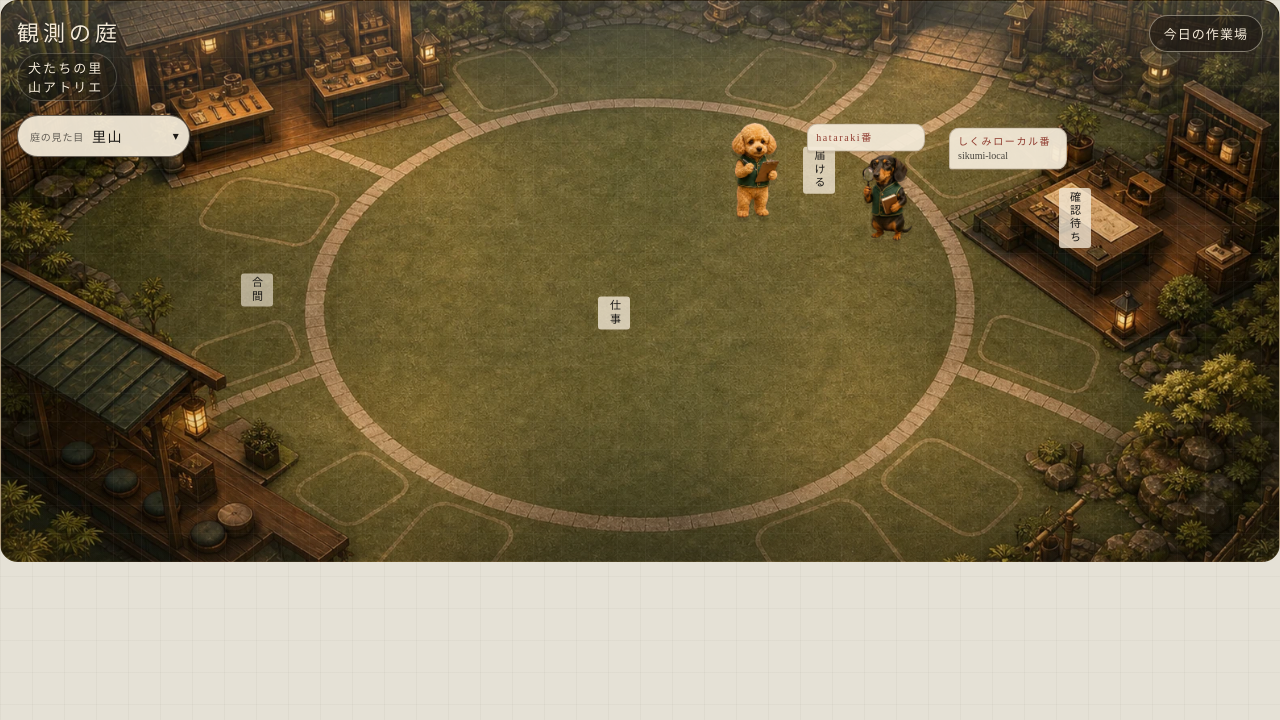
Test: ObserverGarden › shows spoken work titles on inspect for しくみローカル and hataraki
Expected: the text "これまでの仕事" is not shown
Click the button without text next to "しくみローカル番" at (891, 188), box [831,128,951,248]
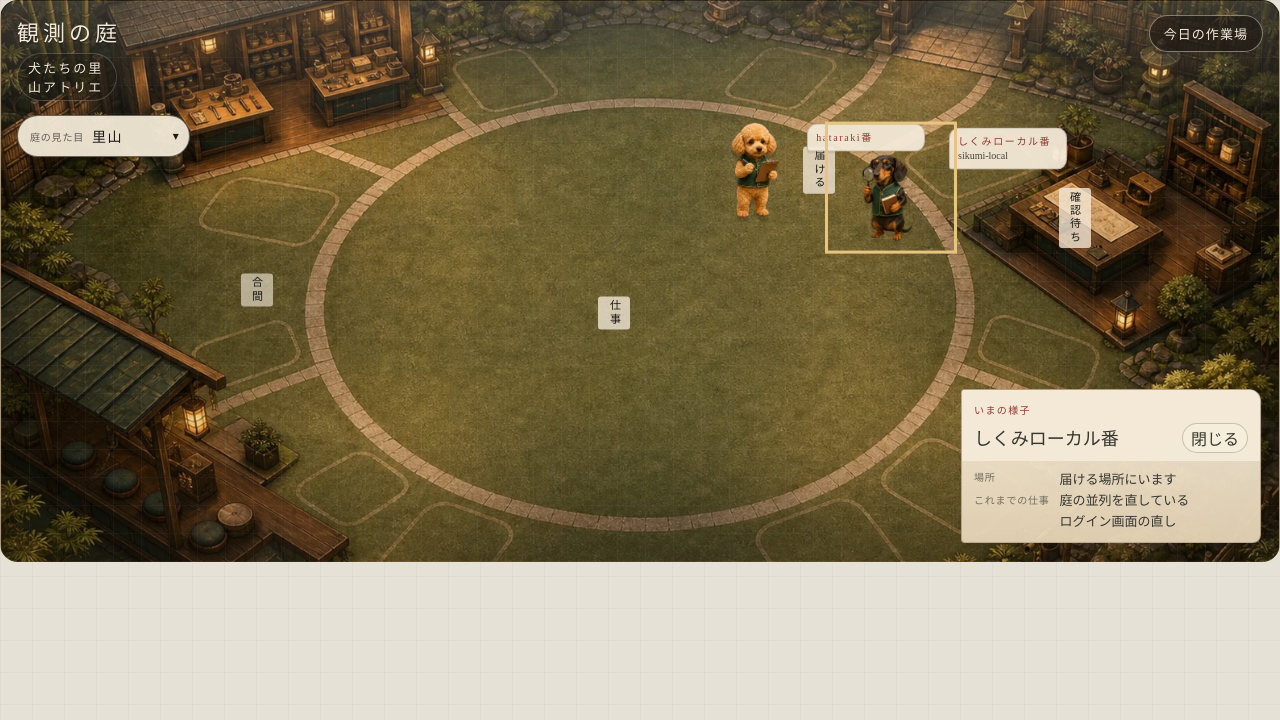
Now the element with test id "garden-inspect" shows "これまでの仕事", box [974,495,1050,506]
Now the element with test id "garden-inspect" shows "庭の並列を直している", box [1060,493,1189,508]
Now the element with test id "garden-inspect" shows "ログイン画面の直し", box [1060,514,1177,529]
Click the button "閉じる" at (1215, 438), box [1182,423,1248,453]
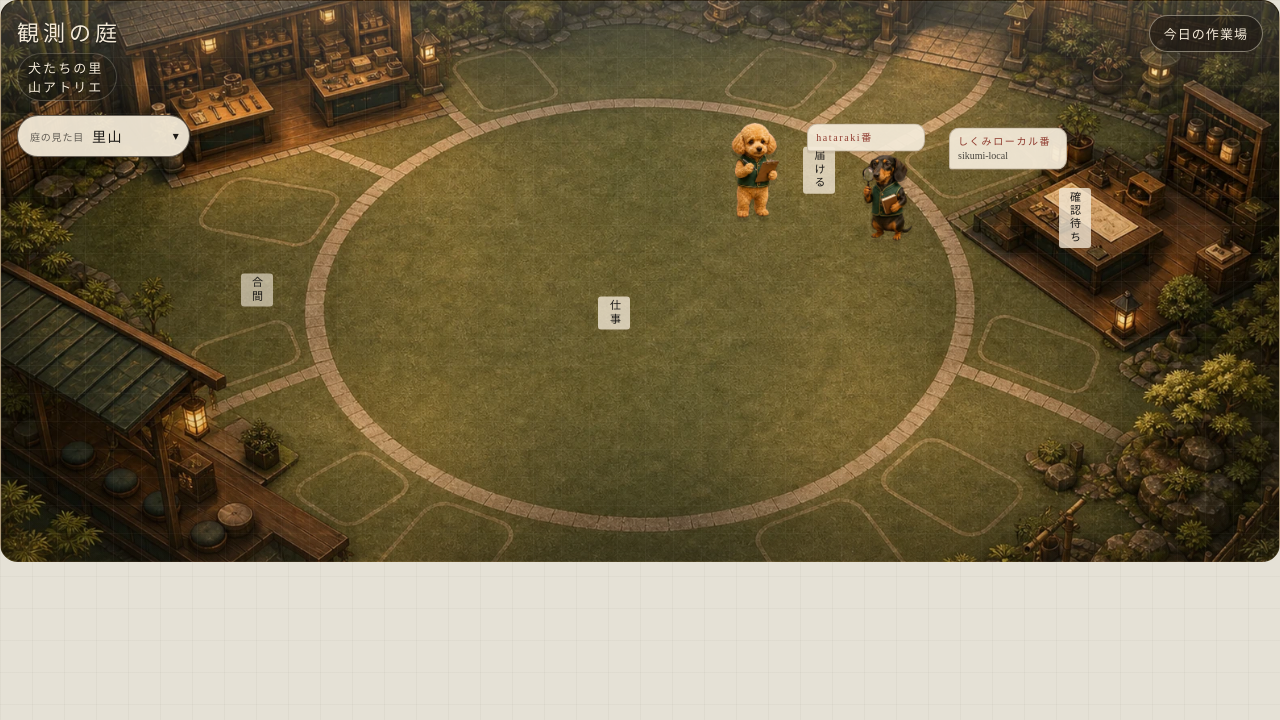
Click the button without text next to "hataraki番" at (749, 170), box [689,110,809,230]
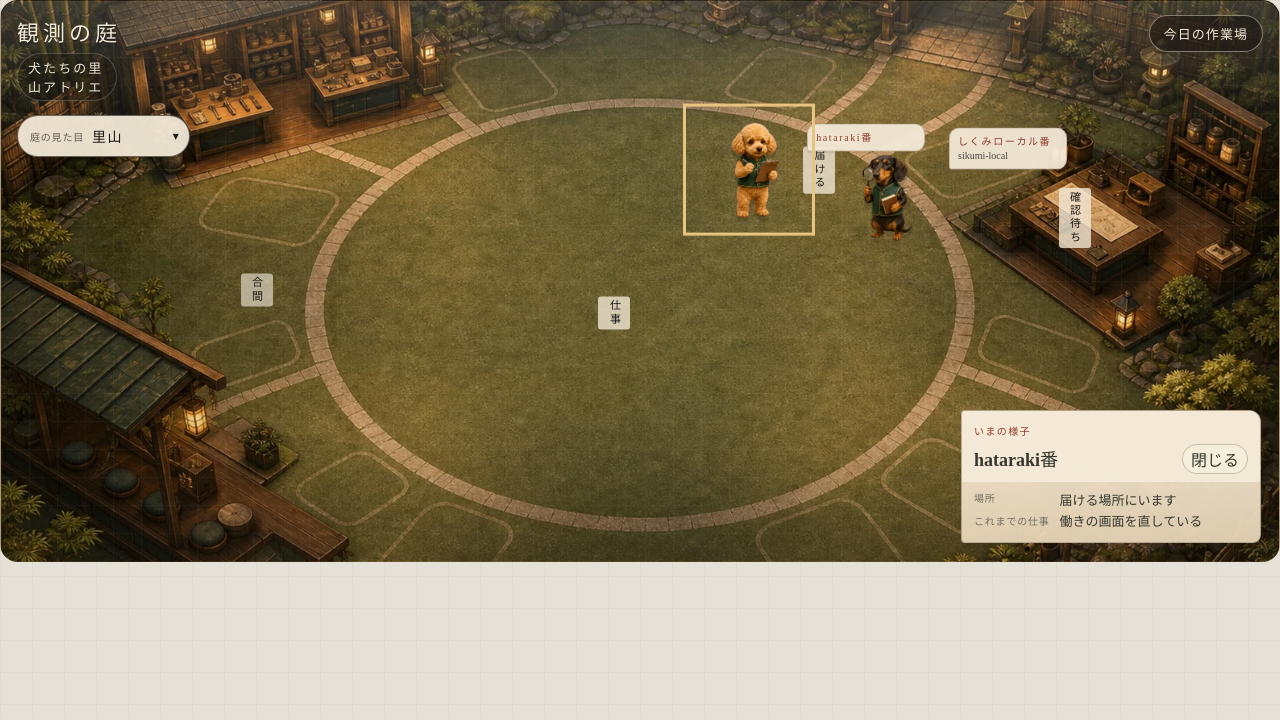
Expected: the element with test id "garden-inspect" does not show "a1b2c3d", [961,410,1261,543]
Now the element with test id "garden-inspect" shows "これまでの仕事", box [974,516,1050,527]
Now the element with test id "garden-inspect" shows "働きの画面を直している", box [1060,514,1202,529]
